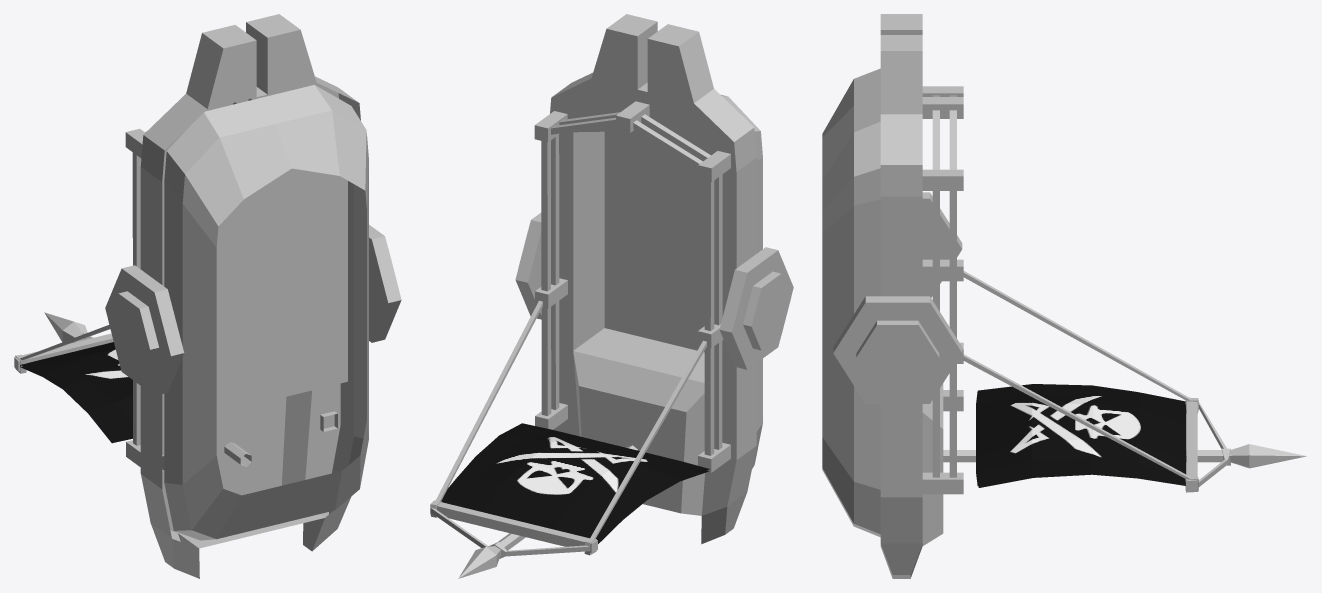
File: pirate_cannon_my_ship_4.fbx
3 renders of one model, left to right at view 1: azimuth 30°, elevation 25°; view 2: azimuth 150°, elevation 25°; view 3: azimuth 270°, elevation 25°, orthographic. The views are drawn at different scales.
Visible parts, largest first — view 1: Cube.268; view 2: Cube.268; view 3: Cube.268.
Boxes of the visible parts, x1,y1,x2,y2 form: Cube.268: (14,14,401,578); Cube.268: (430,14,793,578); Cube.268: (822,14,1306,578).
Size of the model in its own units: 249 by 507 by 429.
